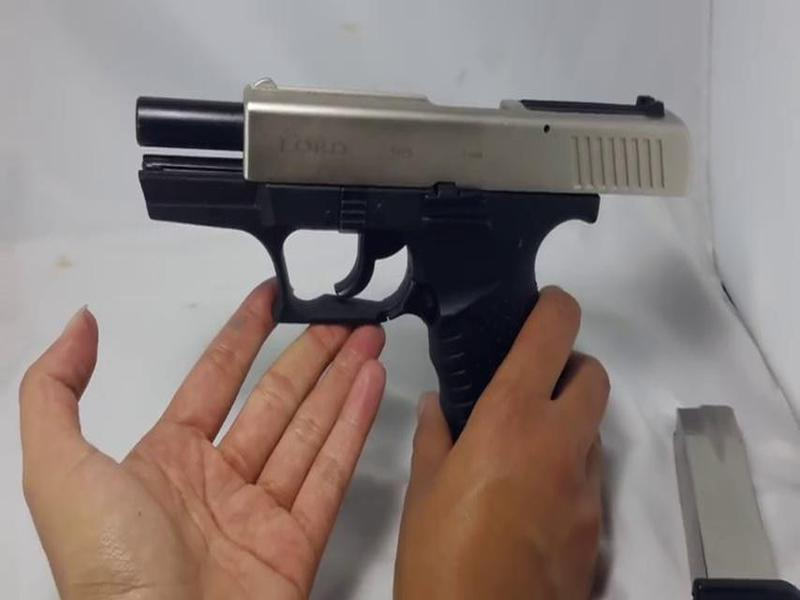Pistola: (116, 84, 707, 464)
